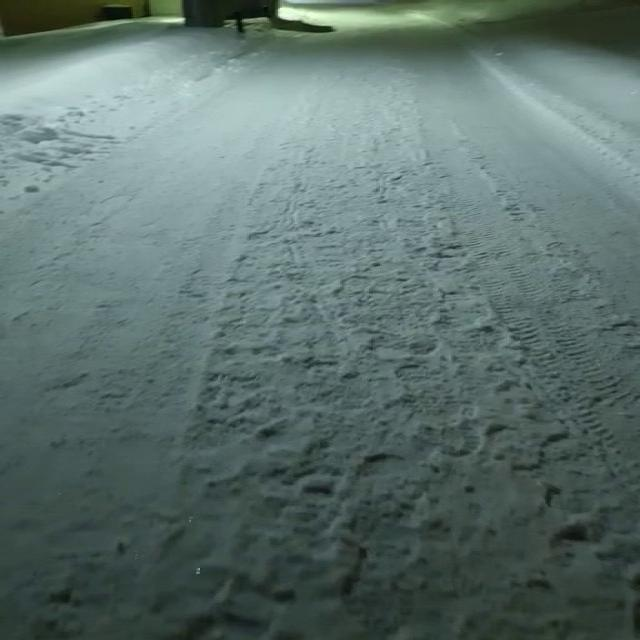path: (0, 2, 640, 640)
